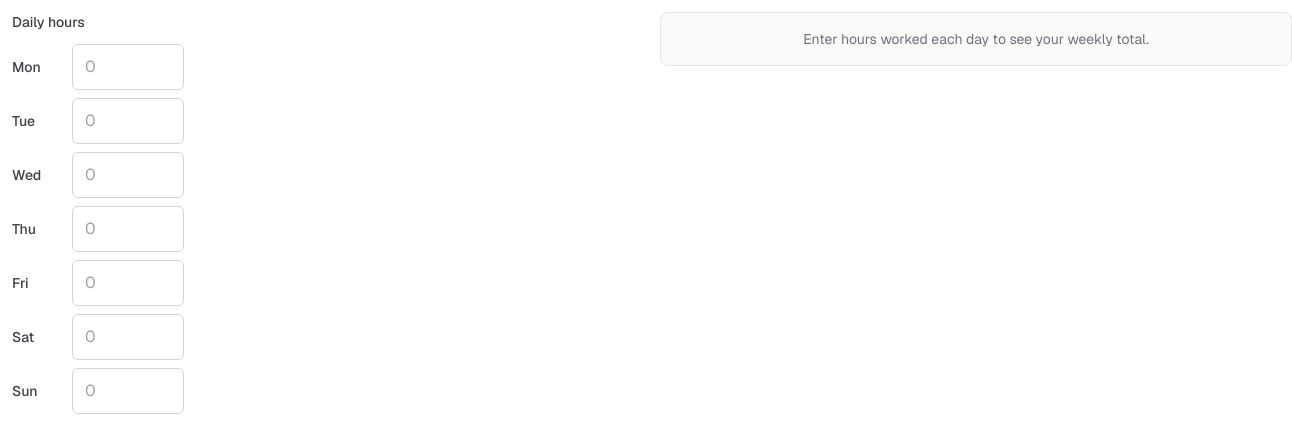
Test: TimesheetCalculator › calculates the full-week example (7.5, 8, 6.5, 8, 7.5)
Step 1. Type "7.5" into the number field named "Monday" → x=128, y=67, box [72,44,184,90]
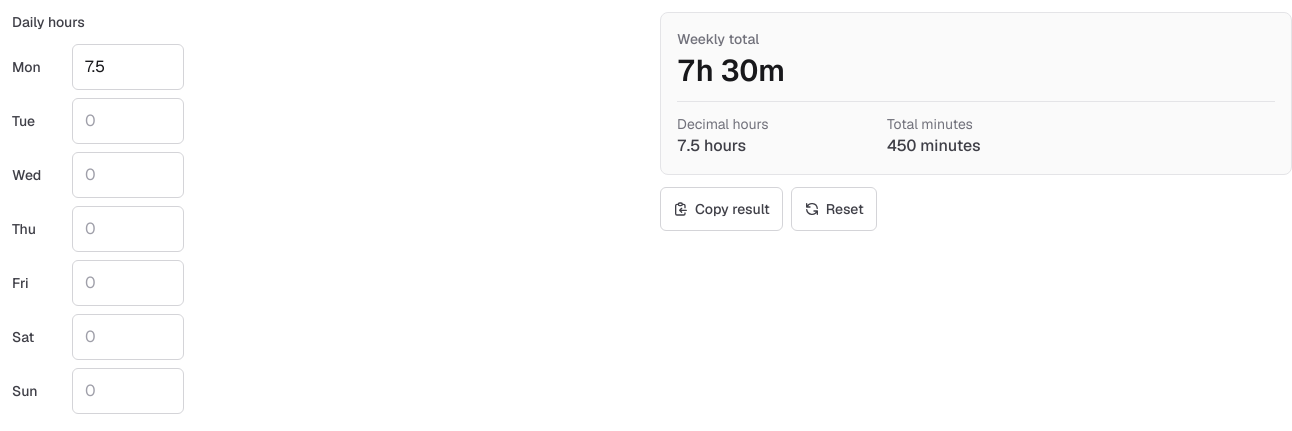
Step 2. Type "8" into the number field named "Tuesday" → x=128, y=121, box [72,98,184,144]
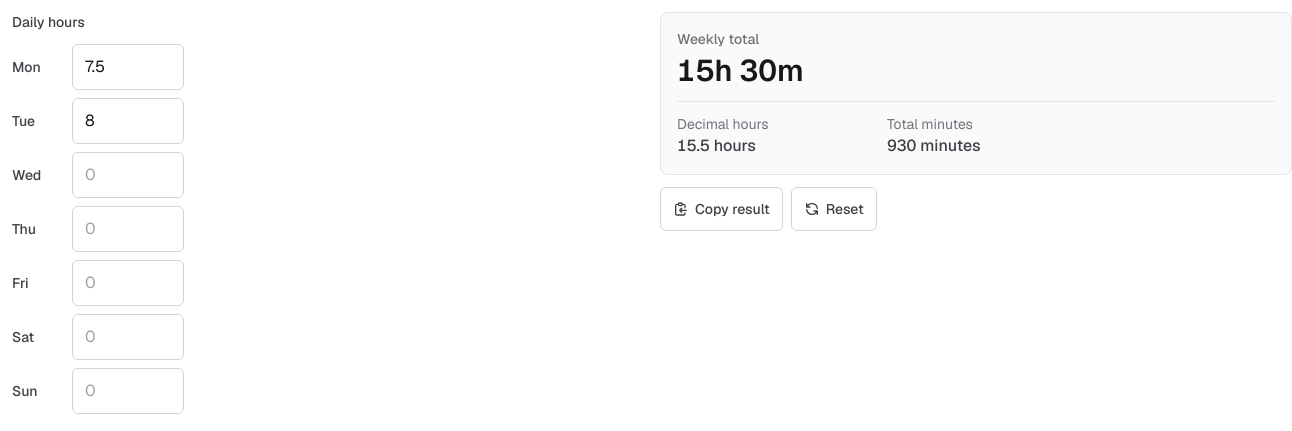
Step 3. Type "6.5" into the number field named "Wednesday" → x=128, y=175, box [72,152,184,198]
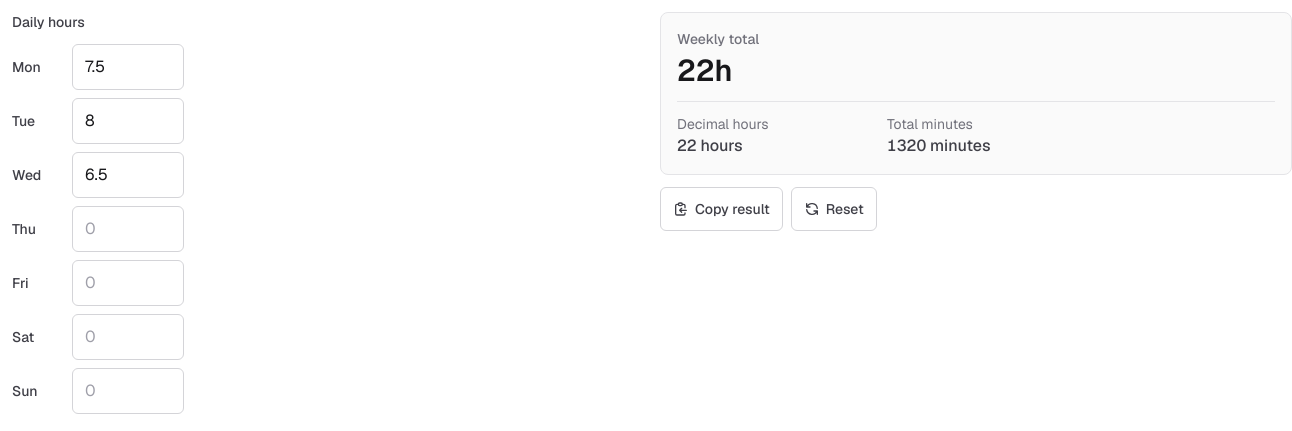
Step 4. Type "8" into the number field named "Thursday" → x=128, y=229, box [72,206,184,252]
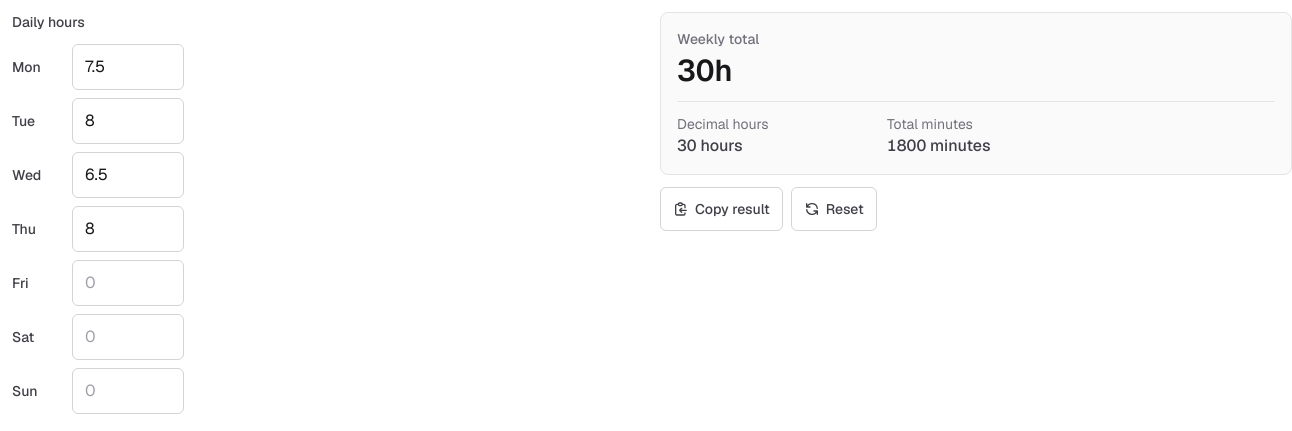
Step 5. Type "7.5" into the number field named "Friday" → x=128, y=283, box [72,260,184,306]
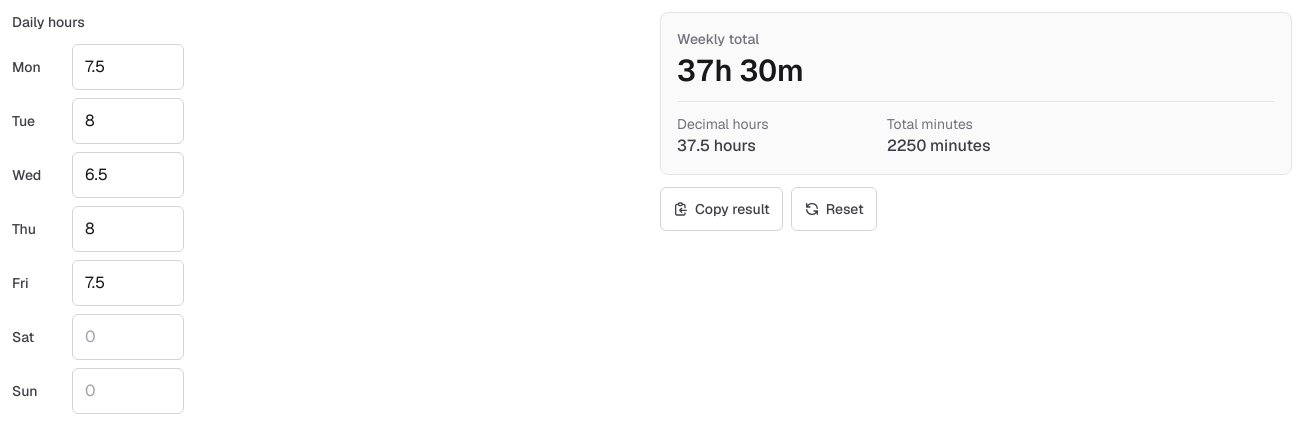
Result: the element named "Results" shows "37h 30m" at [677,51,804,90]
Result: the text "37.5 hours" is shown at [677,135,756,156]
Result: the text "2250 minutes" is shown at [887,135,990,156]
